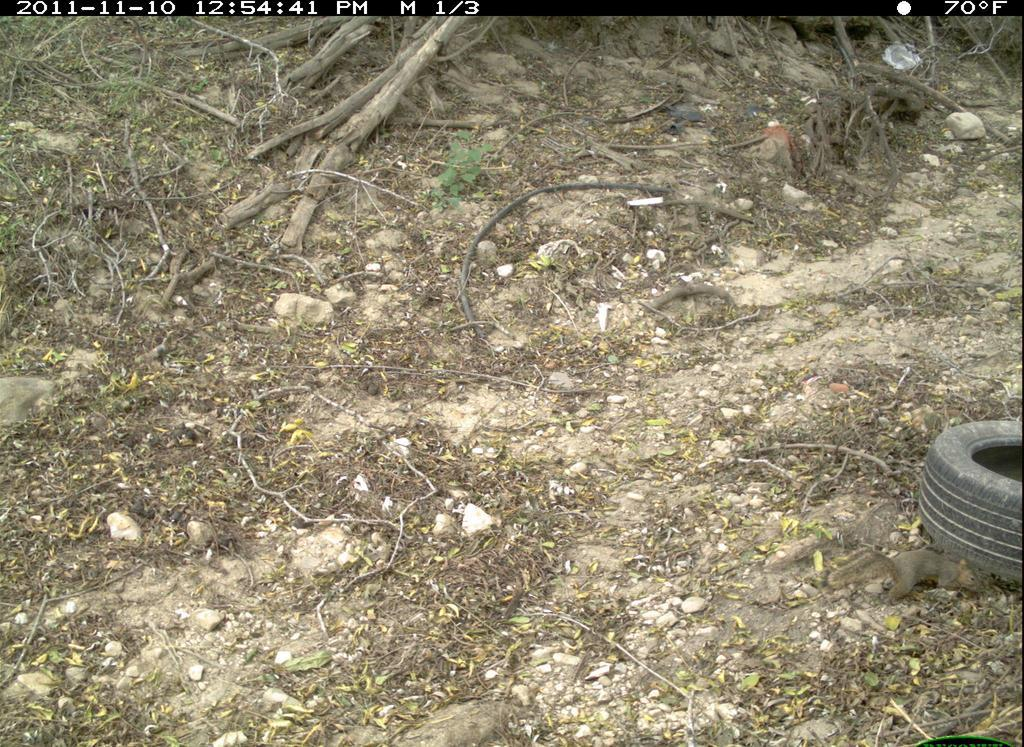squirrel: (818, 543, 993, 619)
